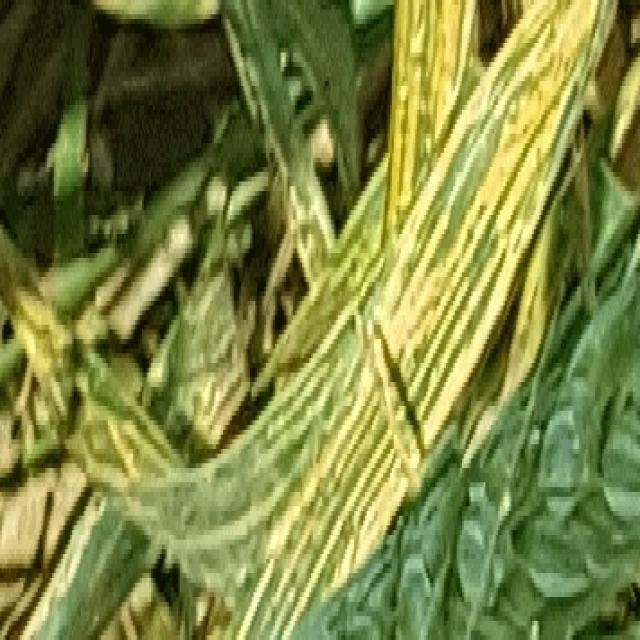Yellow_Rust: (0, 7, 637, 504)
